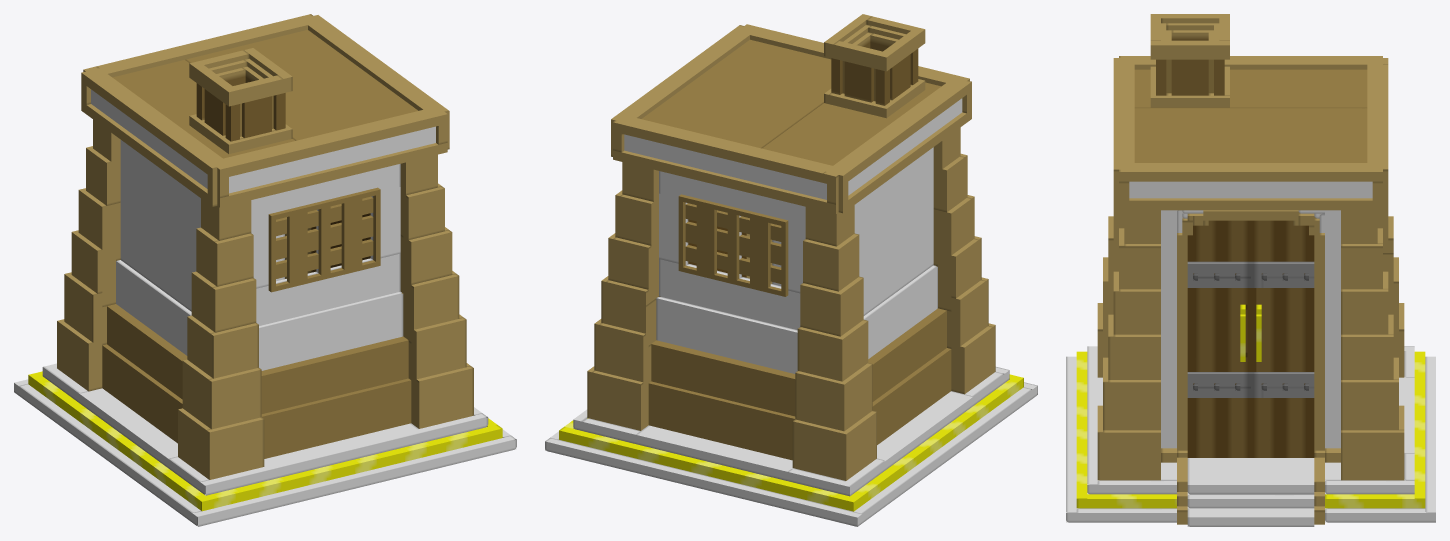
Rendered from caseta.dae.
3 renders of one model, left to right at view 1: azimuth 30°, elevation 25°; view 2: azimuth 150°, elevation 25°; view 3: azimuth 270°, elevation 25°, orthographic. The views are drawn at different scales.
Parts seen in each view (by area): view 1: Node-local, Node (4)-local; view 2: Node-local, Node (3)-local; view 3: Node-local, Node (1)-local, Node (2)-local.
Boxes of the visible parts, x1,y1,x2,y2 form: Node-local: [14, 14, 516, 526]; Node (4)-local: [268, 187, 380, 292]; Node-local: [545, 14, 1037, 526]; Node (3)-local: [678, 194, 788, 296]; Node-local: [1066, 14, 1435, 526]; Node (1)-local: [1187, 220, 1250, 457]; Node (2)-local: [1251, 220, 1314, 457].
Size of the model in its own units: 72 by 81 by 70.
Materials: 5 (5 with a texture image).
